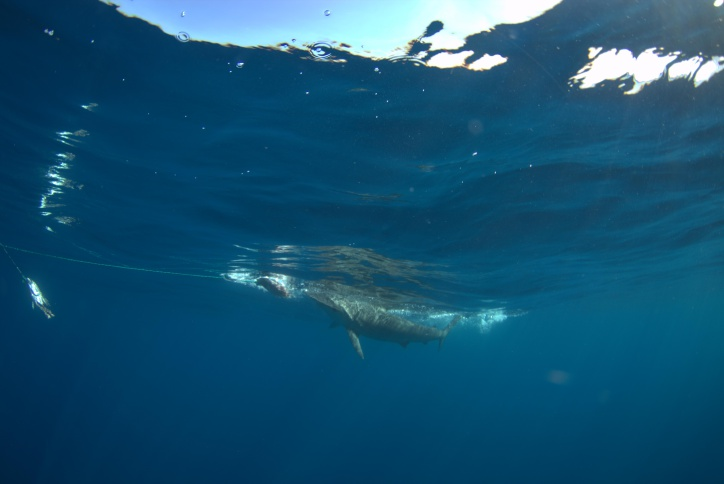Hammer: (300, 278, 470, 371)
